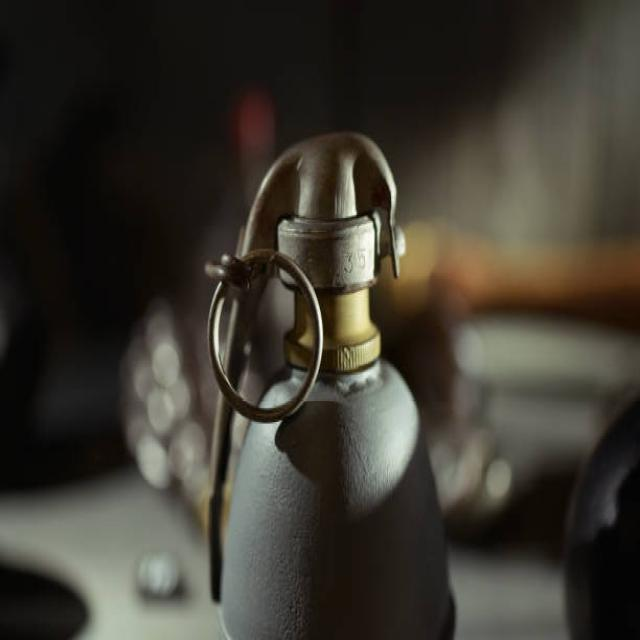grenade: (194, 120, 463, 640)
